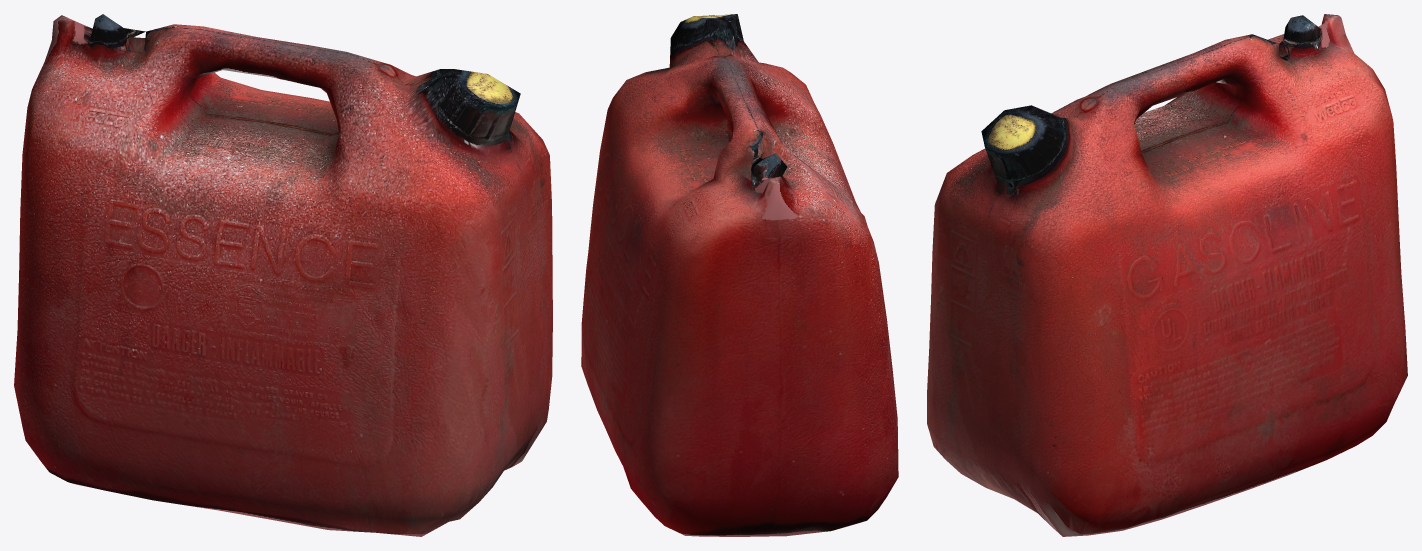
The model's file is PlasticGasCan1LOWPOLY.fbx.
3 renders of one model, left to right at view 1: azimuth 30°, elevation 25°; view 2: azimuth 150°, elevation 25°; view 3: azimuth 270°, elevation 25°, orthographic. The views are drawn at different scales.
Parts seen in each view (by area): view 1: PlasticGasCan1; view 2: PlasticGasCan1; view 3: PlasticGasCan1.
Boxes of the visible parts, left/top/right/bottom form: PlasticGasCan1: left=14, top=14, right=552, bottom=536; PlasticGasCan1: left=581, top=14, right=898, bottom=536; PlasticGasCan1: left=927, top=14, right=1407, bottom=536.
Size of the model in its own units: 220 by 207 by 231.
1 material, 1 textured.
